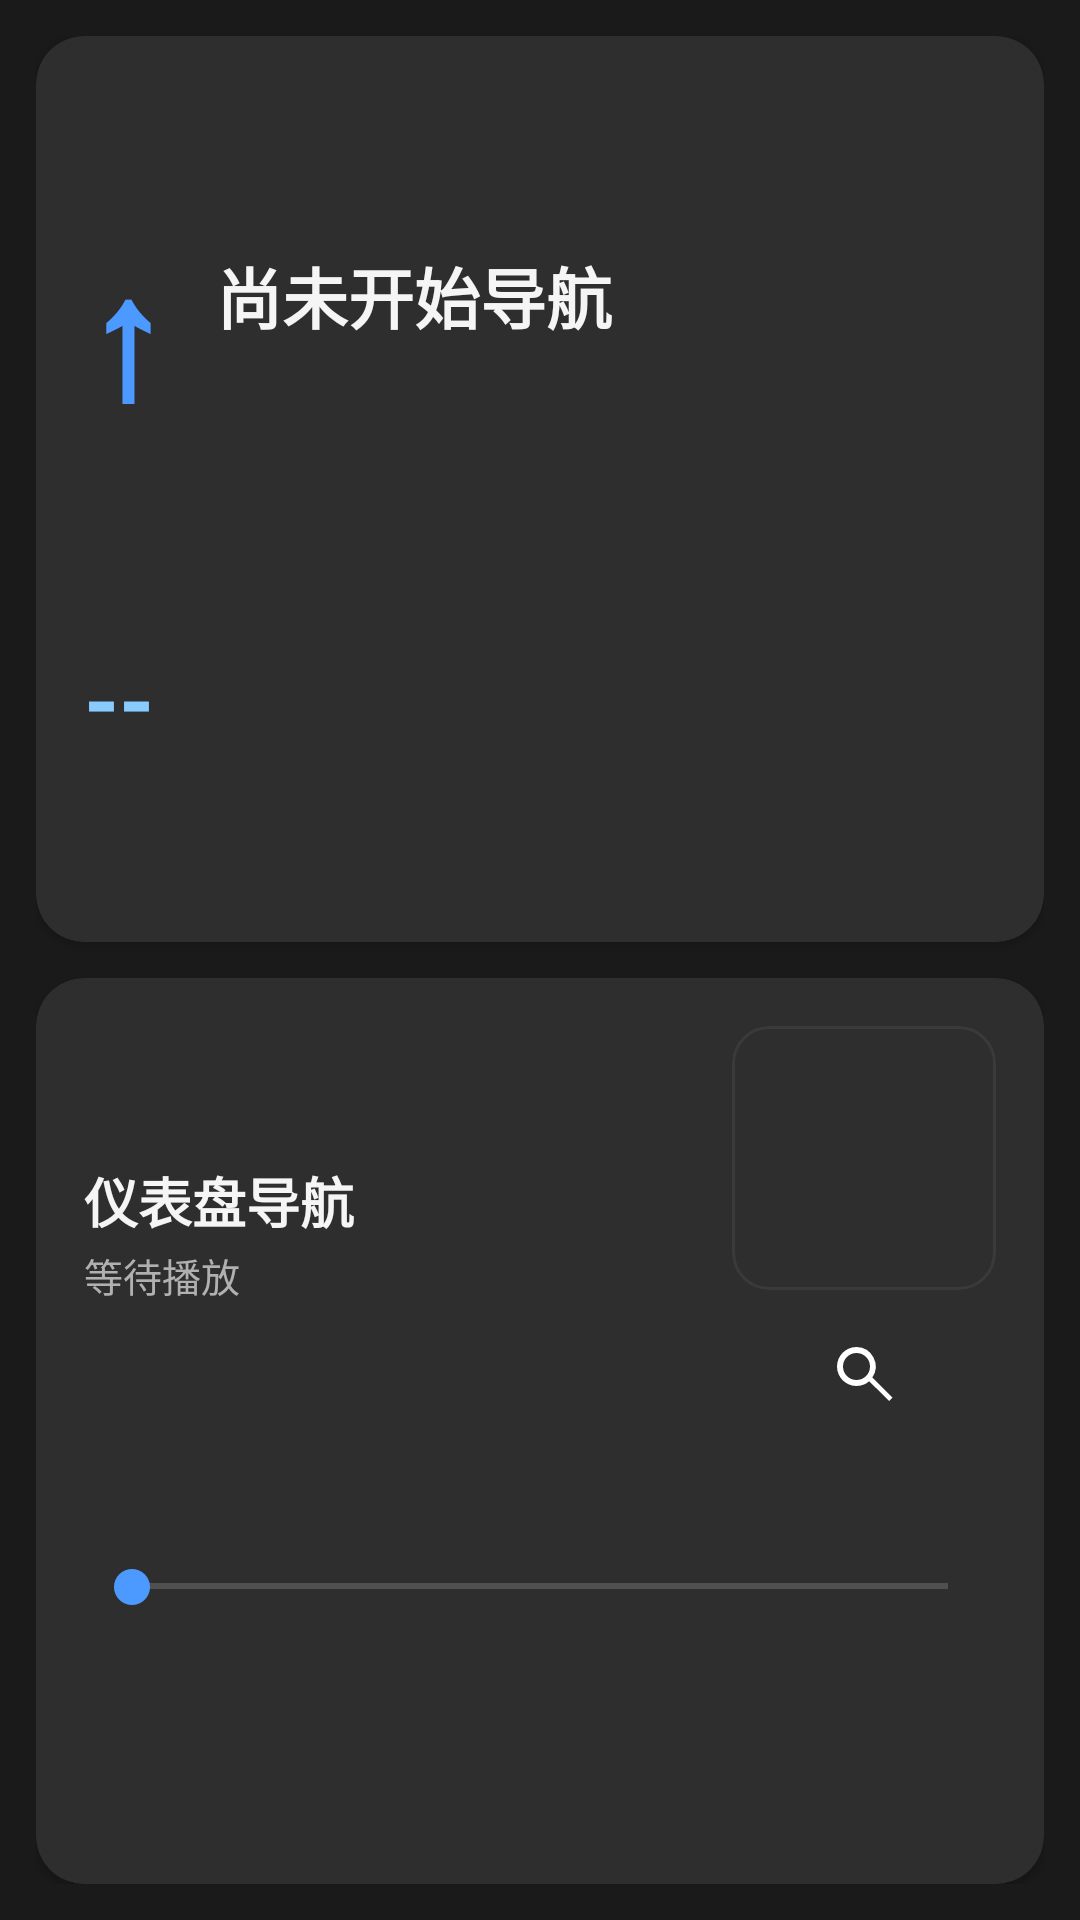

Point at icon controls on the screen. Image size 1080px x 1920px, points as point (x, y).
扫描本地音乐: point (865, 1374)
